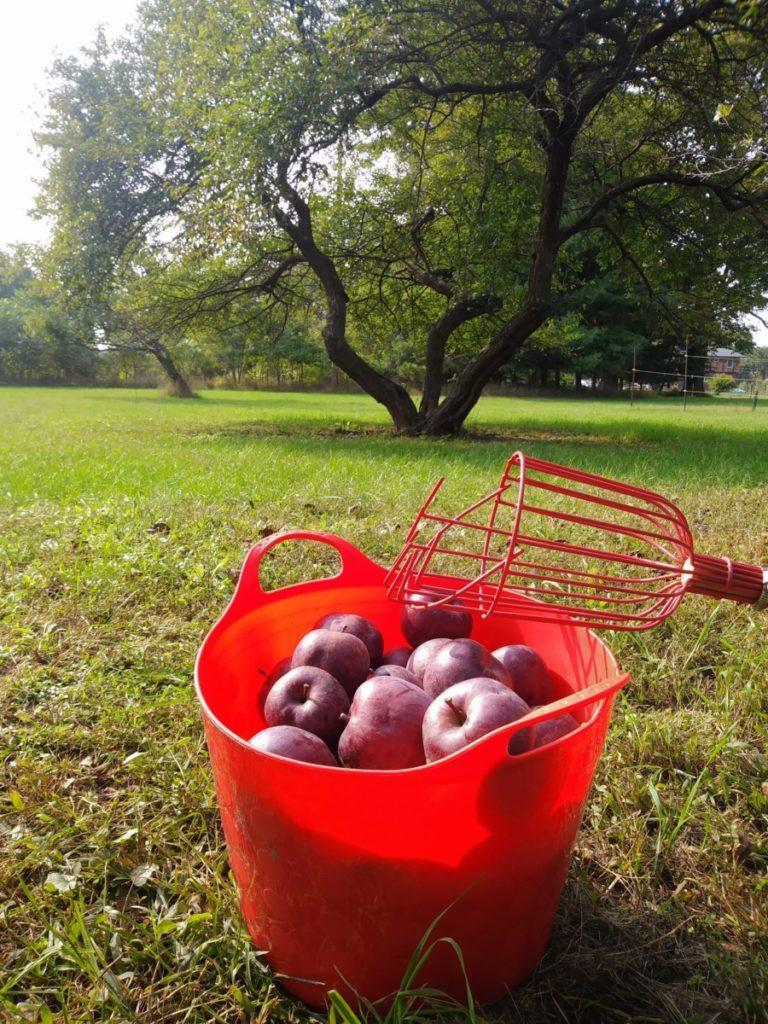apple: (335, 671, 432, 769), (425, 678, 534, 762), (265, 666, 349, 734)
